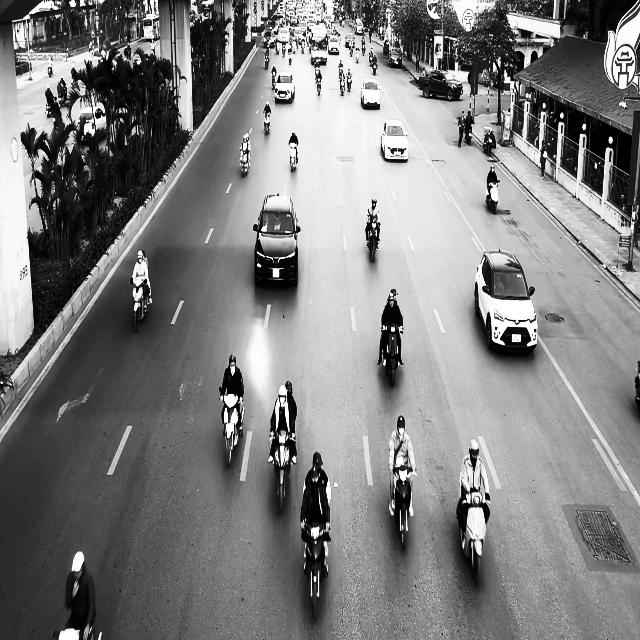bus: (142, 14, 160, 40)
car: (474, 248, 538, 354), (253, 192, 301, 286), (419, 69, 463, 101), (75, 106, 108, 144), (381, 118, 409, 162), (274, 71, 296, 103), (360, 78, 381, 109), (388, 47, 403, 67)
motorbike: (456, 488, 491, 586), (301, 520, 330, 619), (389, 463, 417, 550), (270, 427, 296, 513), (220, 389, 245, 467), (379, 322, 404, 387), (130, 276, 150, 331), (366, 219, 380, 262), (486, 179, 500, 214), (240, 146, 250, 176), (289, 143, 299, 172), (264, 110, 272, 135), (316, 76, 322, 96), (347, 72, 353, 91), (271, 72, 277, 90)
